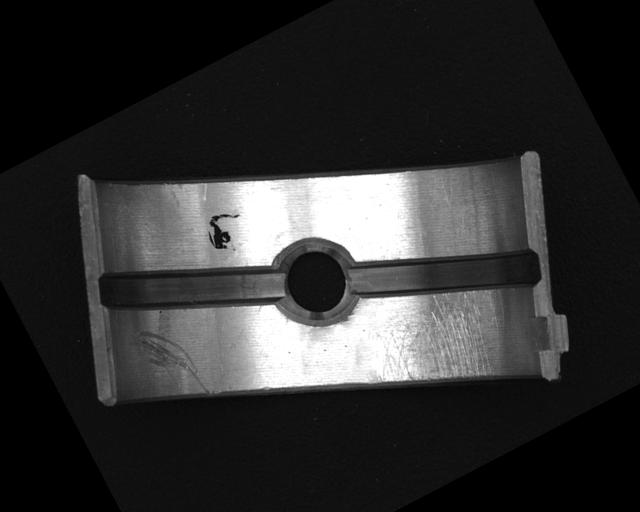blot: (198, 202, 252, 255)
gap: (343, 187, 554, 362), (87, 198, 294, 374)
hole: (262, 227, 368, 335)
nick: (126, 311, 211, 415)
scratch: (354, 280, 509, 425)
